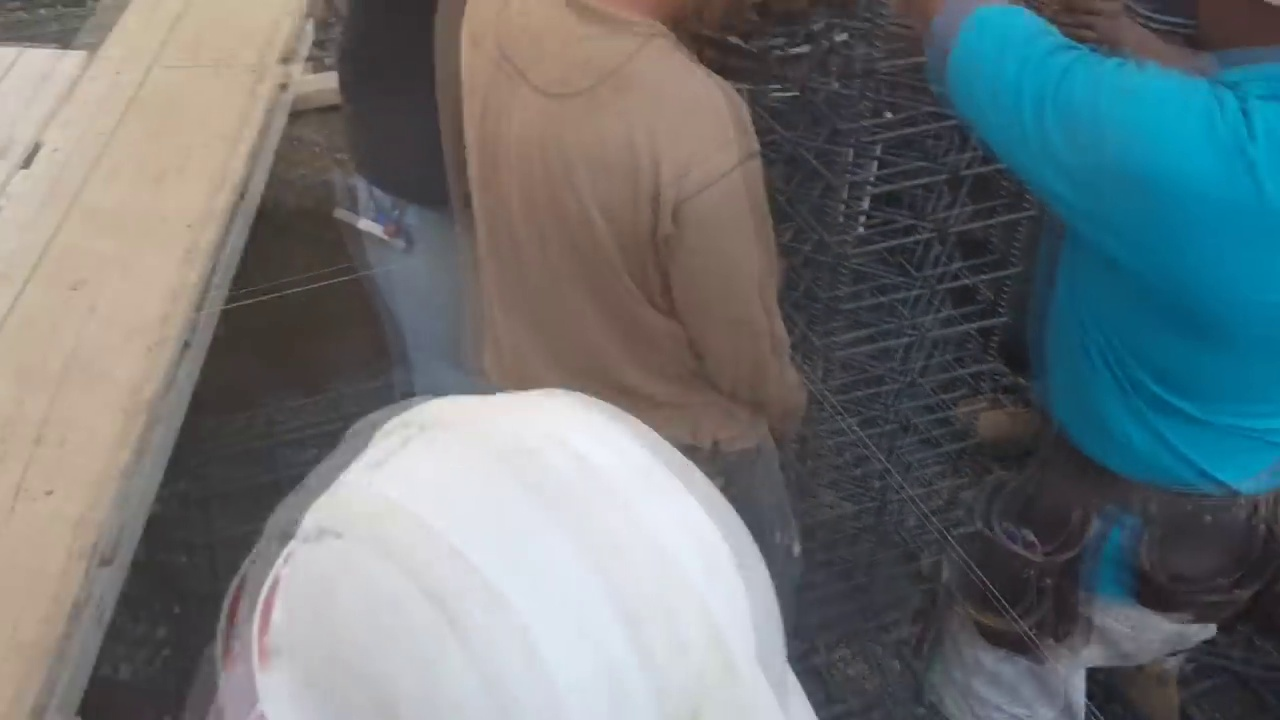helmet: (232, 381, 822, 719)
person: (214, 0, 815, 620), (921, 0, 1280, 720), (328, 7, 485, 412)
